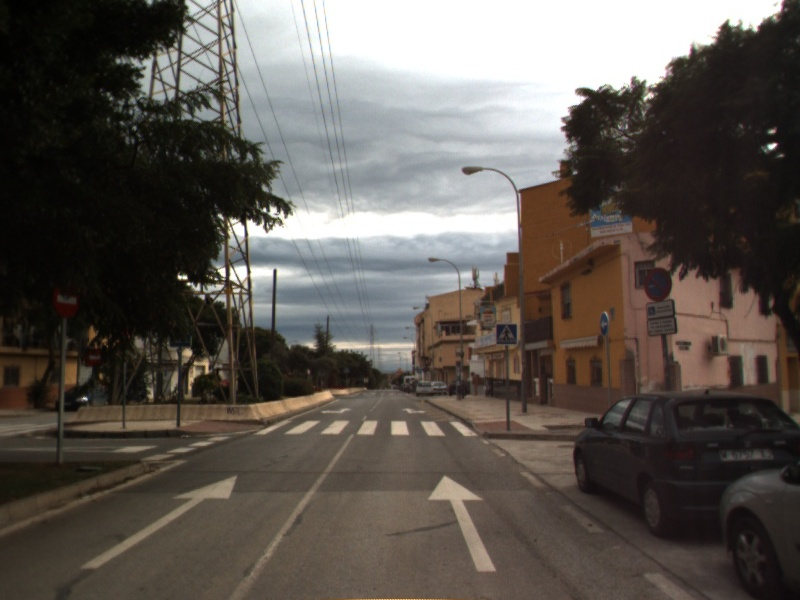STRAIGHT: (78, 472, 239, 571), (425, 473, 500, 573)
STRAIGHT_LEFT: (319, 405, 354, 415)
STRAIGHT_RIGHT: (400, 405, 428, 416)
